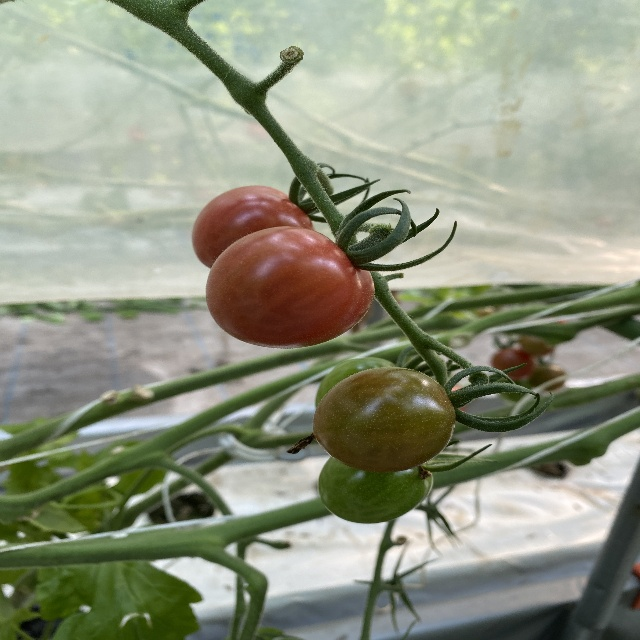l_fully_ripened: (205, 227, 375, 349), (190, 185, 313, 269)
l_green: (318, 456, 434, 524), (317, 357, 398, 407)
l_half_ripened: (312, 367, 457, 473)
